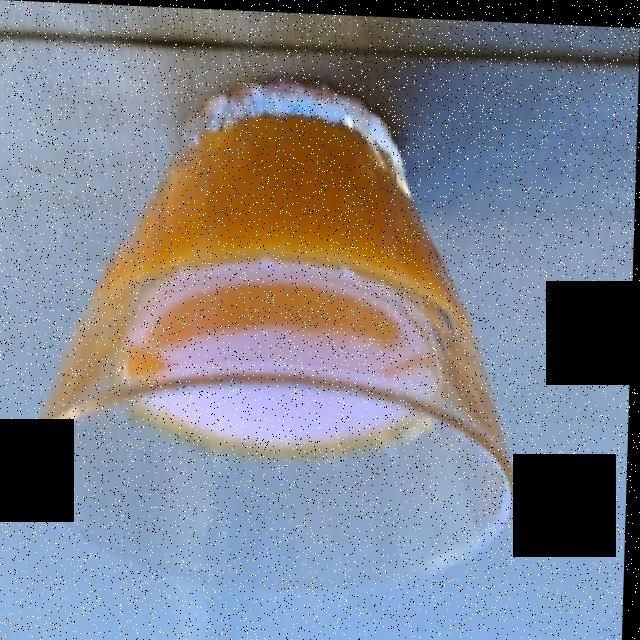juice-multifruit: (79, 101, 476, 451)
